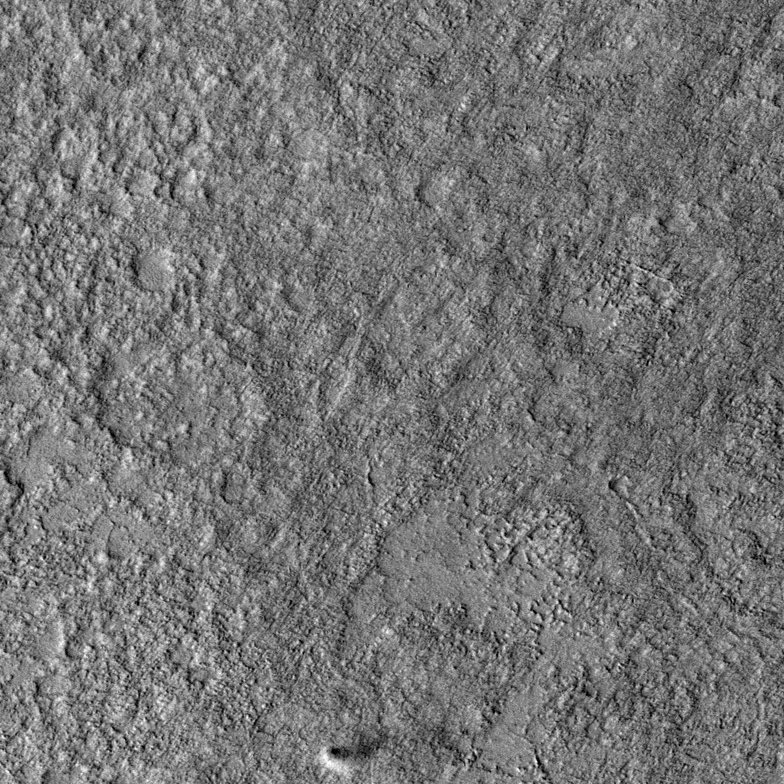dust_devil: (320, 740, 381, 779)
